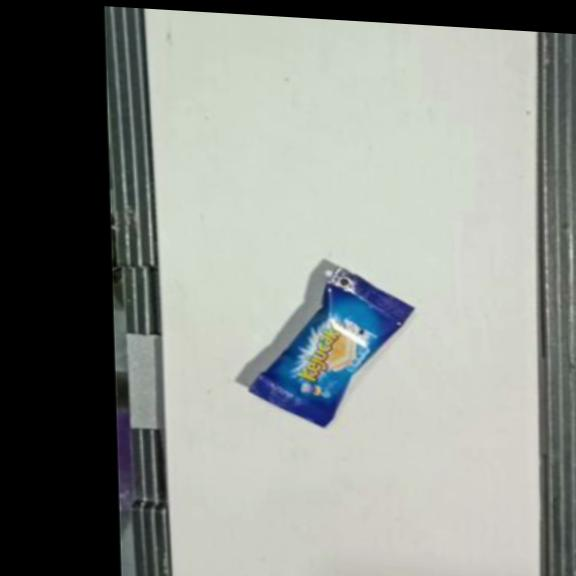Plastik: (244, 260, 419, 434)
